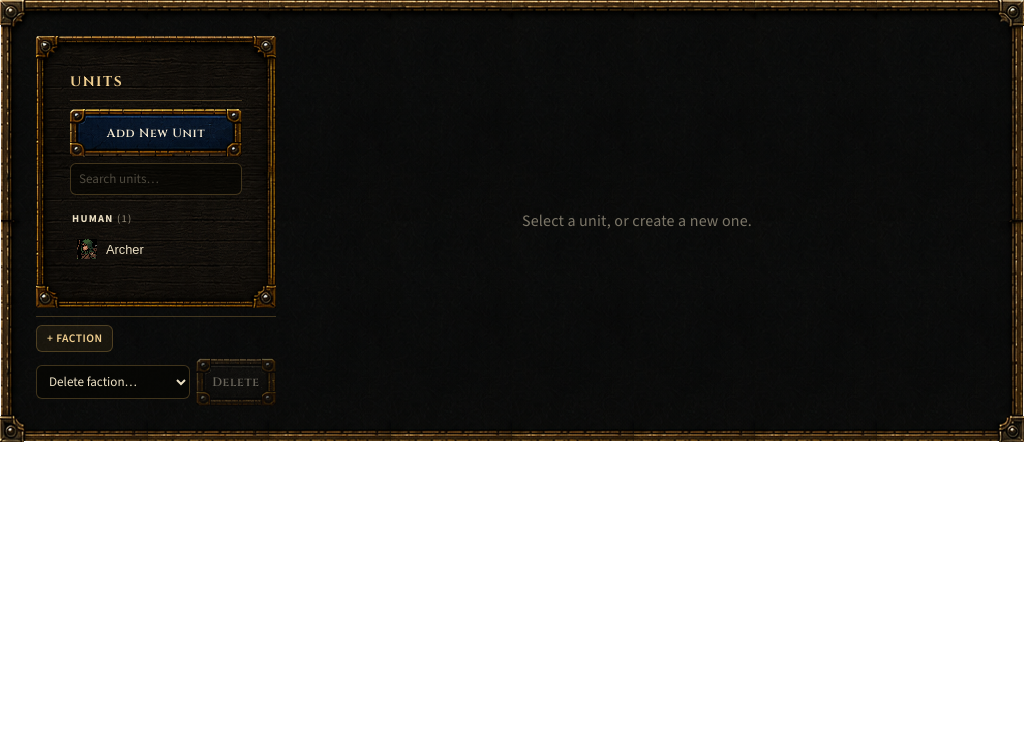
Test: UnitTypeEditorPanel create flows (unit vs path) › New Path (from the Paths tab) opens a blank, save-disabled path form inline
Click the button "Archer".
click(134, 249)  # box [70,234,197,264]
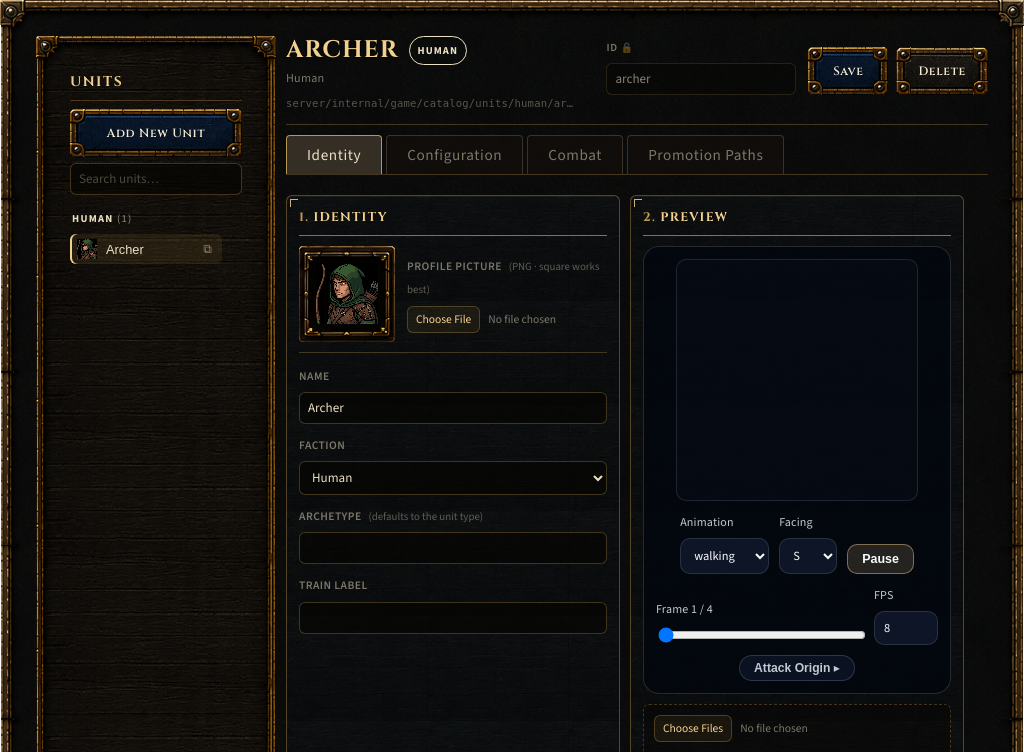
Click the tab "Promotion Paths".
click(706, 154)  # box [627,135,784,174]
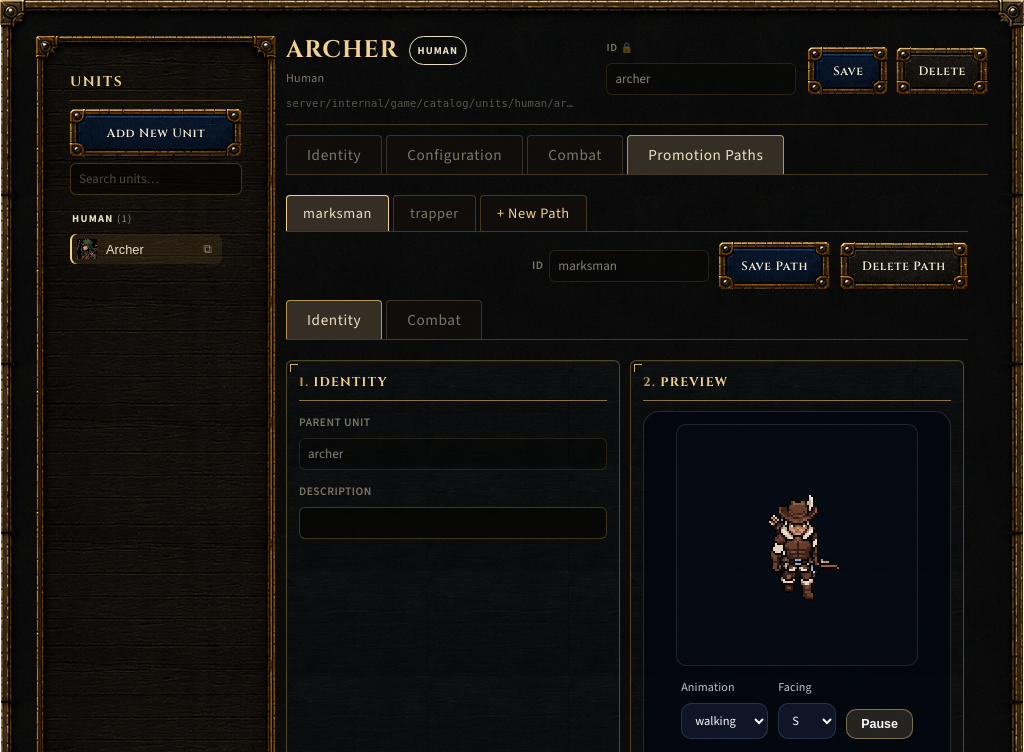
Click the button "+ New Path".
click(533, 213)  # box [480,195,587,231]
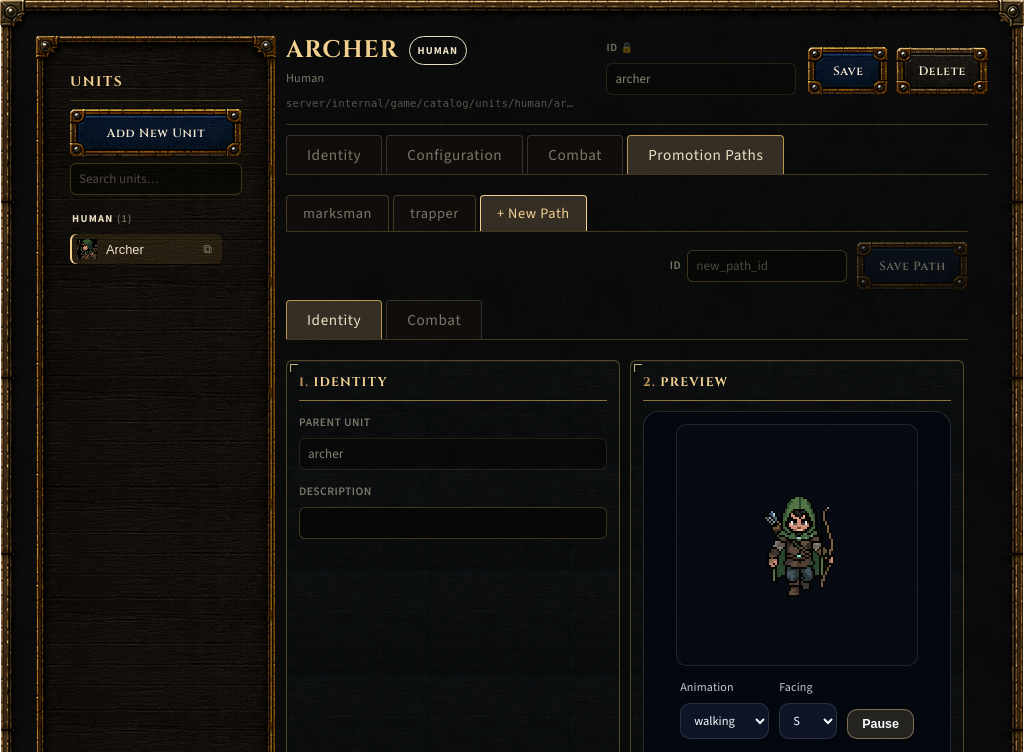
expect the field labelled "Parent Unit" holds "archer": met, box [299,438,607,470]
expect the field labelled "id" is empty: met, box [687,250,847,282]
expect the field labelled "id" is enabled: met, box [687,250,847,282]
